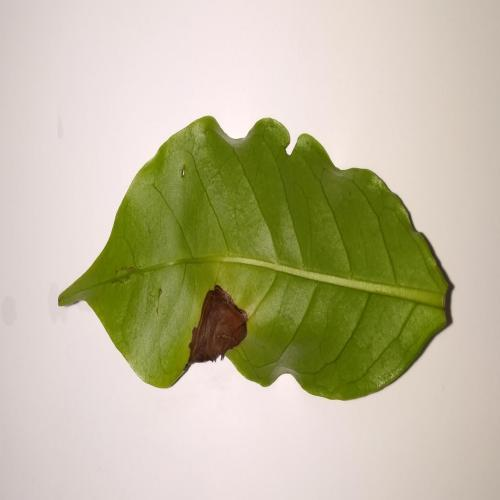miner: (181, 285, 247, 377)
